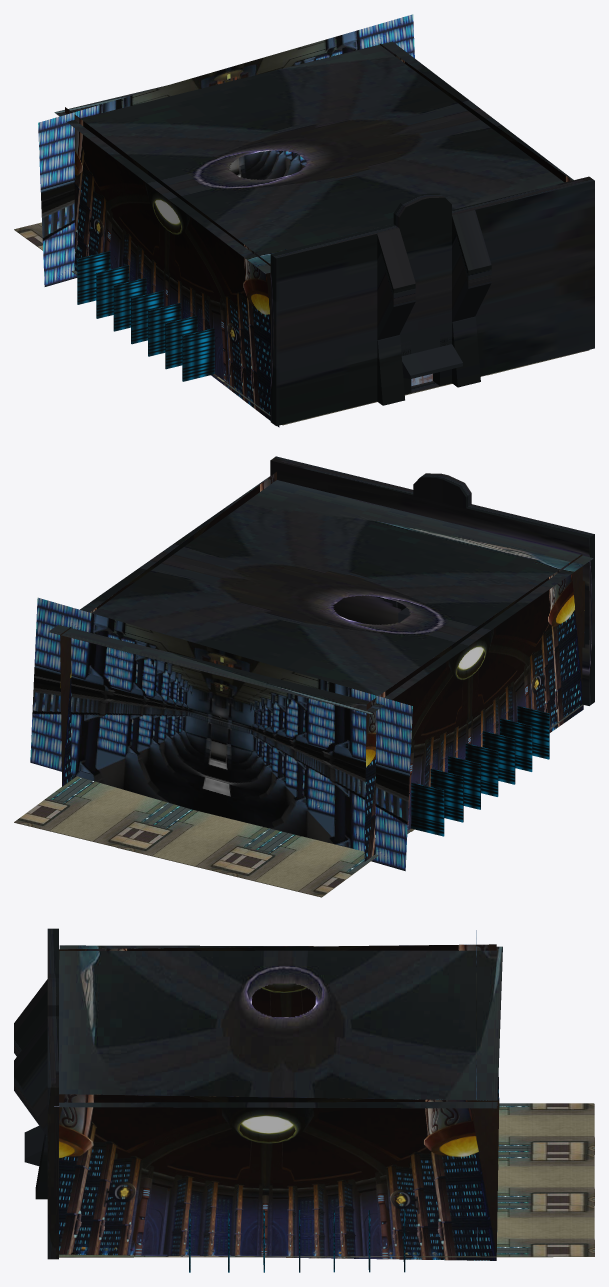
Rendered from J_Archive.fbx.
3 views of the same model, one above another, from view 1: azimuth 30°, elevation 25°; view 2: azimuth 150°, elevation 25°; view 3: azimuth 270°, elevation 25° (orthographic). The views are drawn at different scales.
Parts seen in each view (by area): view 1: Ext.Wall, Background.003, Background.001, Background, J-Archive.002, J-Archive.006, J-Archive.004, J-Archive.005, J-Archive, J-Archive.001, J-Archive.003, Background.002; view 2: Background.003, Background, Background.001, Ext.Wall, Floor.008, Floor.006, Floor.007, Background.002, J-Archive.006, J-Archive.005, J-Archive.003, J-Archive (+3 smaller); view 3: Background.002, Background.003, Ext.Wall, Floor.008, Floor.006, Floor.007, Background.001.
Boxes of the visible parts, left/top/right/bottom form: Ext.Wall: left=270, top=176, right=594, bottom=425; Background.003: left=54, top=41, right=573, bottom=273; Background.001: left=65, top=107, right=279, bottom=427; Background: left=38, top=14, right=414, bottom=286; J-Archive.002: left=182, top=328, right=214, bottom=381; J-Archive.006: left=77, top=251, right=110, bottom=304; J-Archive.004: left=113, top=277, right=146, bottom=331; J-Archive.005: left=96, top=265, right=129, bottom=318; J-Archive: left=148, top=303, right=180, bottom=356; J-Archive.001: left=165, top=315, right=197, bottom=369; J-Archive.003: left=131, top=290, right=163, bottom=344; Background.002: left=379, top=43, right=572, bottom=182; Background.003: left=48, top=476, right=593, bottom=714; Background: left=30, top=597, right=412, bottom=871; Background.001: left=364, top=554, right=584, bottom=861; Ext.Wall: left=270, top=456, right=594, bottom=705; Floor.008: left=14, top=776, right=173, bottom=847; Floor.006: left=116, top=804, right=275, bottom=872; Floor.007: left=219, top=830, right=409, bottom=897; Background.002: left=60, top=472, right=276, bottom=786; J-Archive.006: left=411, top=782, right=444, bottom=836; J-Archive.005: left=430, top=768, right=463, bottom=822; J-Archive.003: left=465, top=743, right=498, bottom=796; J-Archive: left=482, top=731, right=515, bottom=784; Background.002: left=59, top=1094, right=499, bottom=1260; Background.003: left=54, top=945, right=502, bottom=1108; Ext.Wall: left=14, top=928, right=58, bottom=1259; Floor.008: left=413, top=1205, right=594, bottom=1257; Floor.006: left=497, top=1154, right=594, bottom=1205; Floor.007: left=498, top=1103, right=594, bottom=1154; Background.001: left=59, top=944, right=499, bottom=1100.
Bounding box in the file's own units: 22198 × 11147 × 28606.
9 materials, 7 textured.
